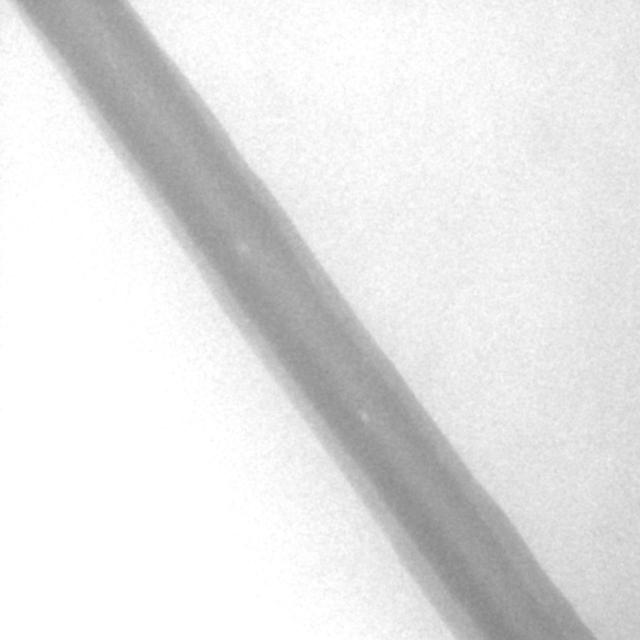air hole: (358, 409, 372, 426)
